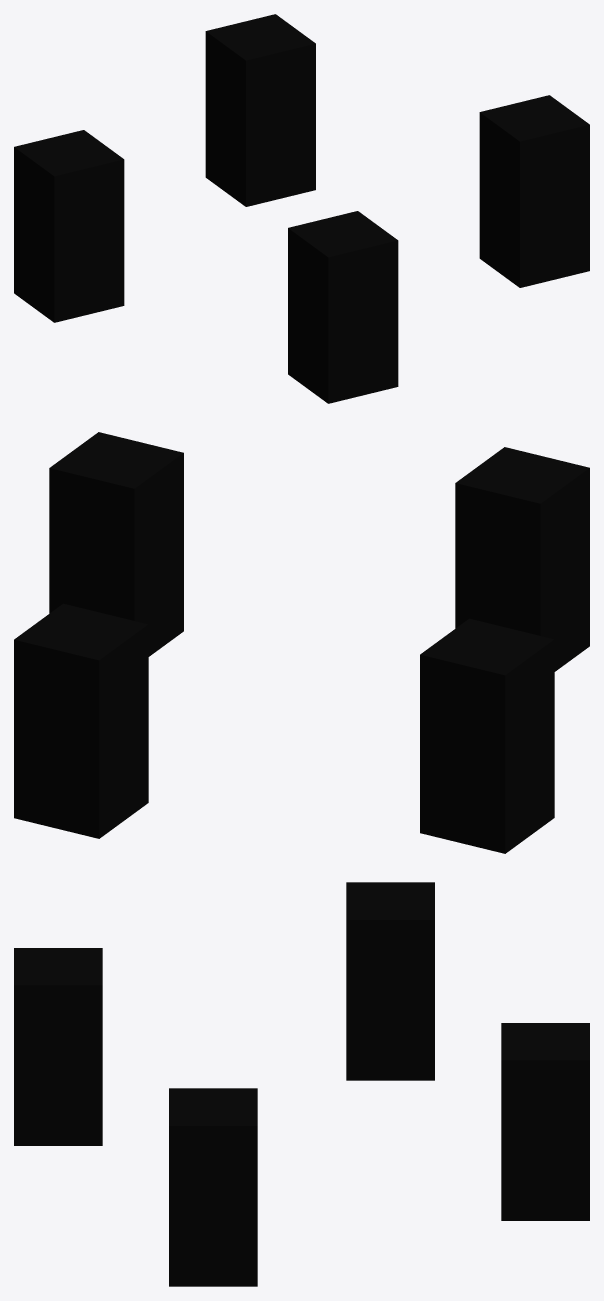
Rendered from work_blaze_rods_small.obj.
3 views of the same model, one above another, from view 1: azimuth 30°, elevation 25°; view 2: azimuth 150°, elevation 25°; view 3: azimuth 270°, elevation 25° (orthographic). The views are drawn at different scales.
Parts seen in each view (by area): view 1: work_blaze_rods_small; view 2: work_blaze_rods_small; view 3: work_blaze_rods_small.
Part boxes in pixels (x1,y1,x2,y2): work_blaze_rods_small: [14, 14, 589, 403]; work_blaze_rods_small: [14, 432, 589, 853]; work_blaze_rods_small: [14, 882, 589, 1286].
Bounding box in the file's own units: 0.8125 × 0.25 × 0.8125.
